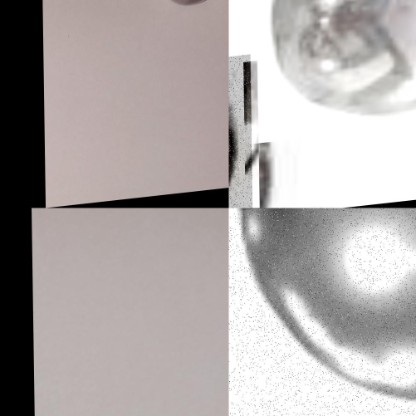ironball: (228, 208, 415, 415), (243, 0, 415, 149)
